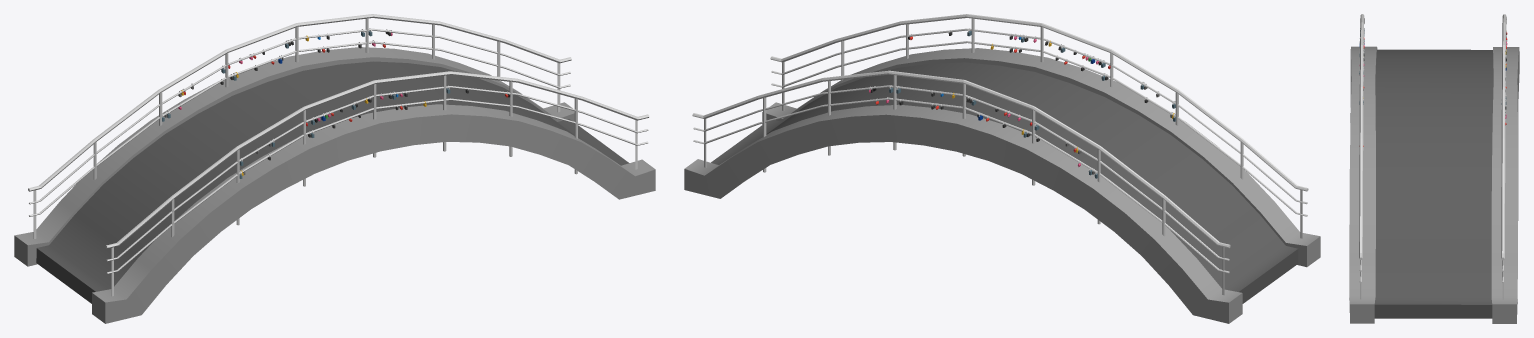
Rendered from bridge2.gltf.
3 views of the same model, side by side, from view 1: azimuth 30°, elevation 25°; view 2: azimuth 150°, elevation 25°; view 3: azimuth 270°, elevation 25° (orthographic). The views are drawn at different scales.
Parts seen in each view (by area): view 1: land_52076, land_52082, land_52081, land_52078, land_52080, land_52079; view 2: land_52076, land_52082, land_52081, land_52078, land_52079, land_52080; view 3: land_52076, land_52082, land_52078.
Part boxes in pixels (x1,y1,x2,y2): land_52076: (14, 47, 655, 323); land_52082: (28, 14, 571, 238); land_52081: (106, 86, 648, 274); land_52078: (105, 71, 649, 248); land_52080: (443, 75, 637, 174); land_52079: (111, 110, 305, 296); land_52076: (684, 48, 1320, 323); land_52082: (692, 70, 1230, 295); land_52081: (771, 28, 1307, 216); land_52078: (770, 14, 1308, 191); land_52079: (1110, 53, 1302, 238); land_52080: (782, 18, 974, 110); land_52076: (1349, 46, 1519, 323); land_52082: (1501, 14, 1506, 299); land_52078: (1359, 14, 1364, 259).
Bounding box in the file's own units: 15.02 × 4.5 × 4.42.
1 material, 1 textured.
